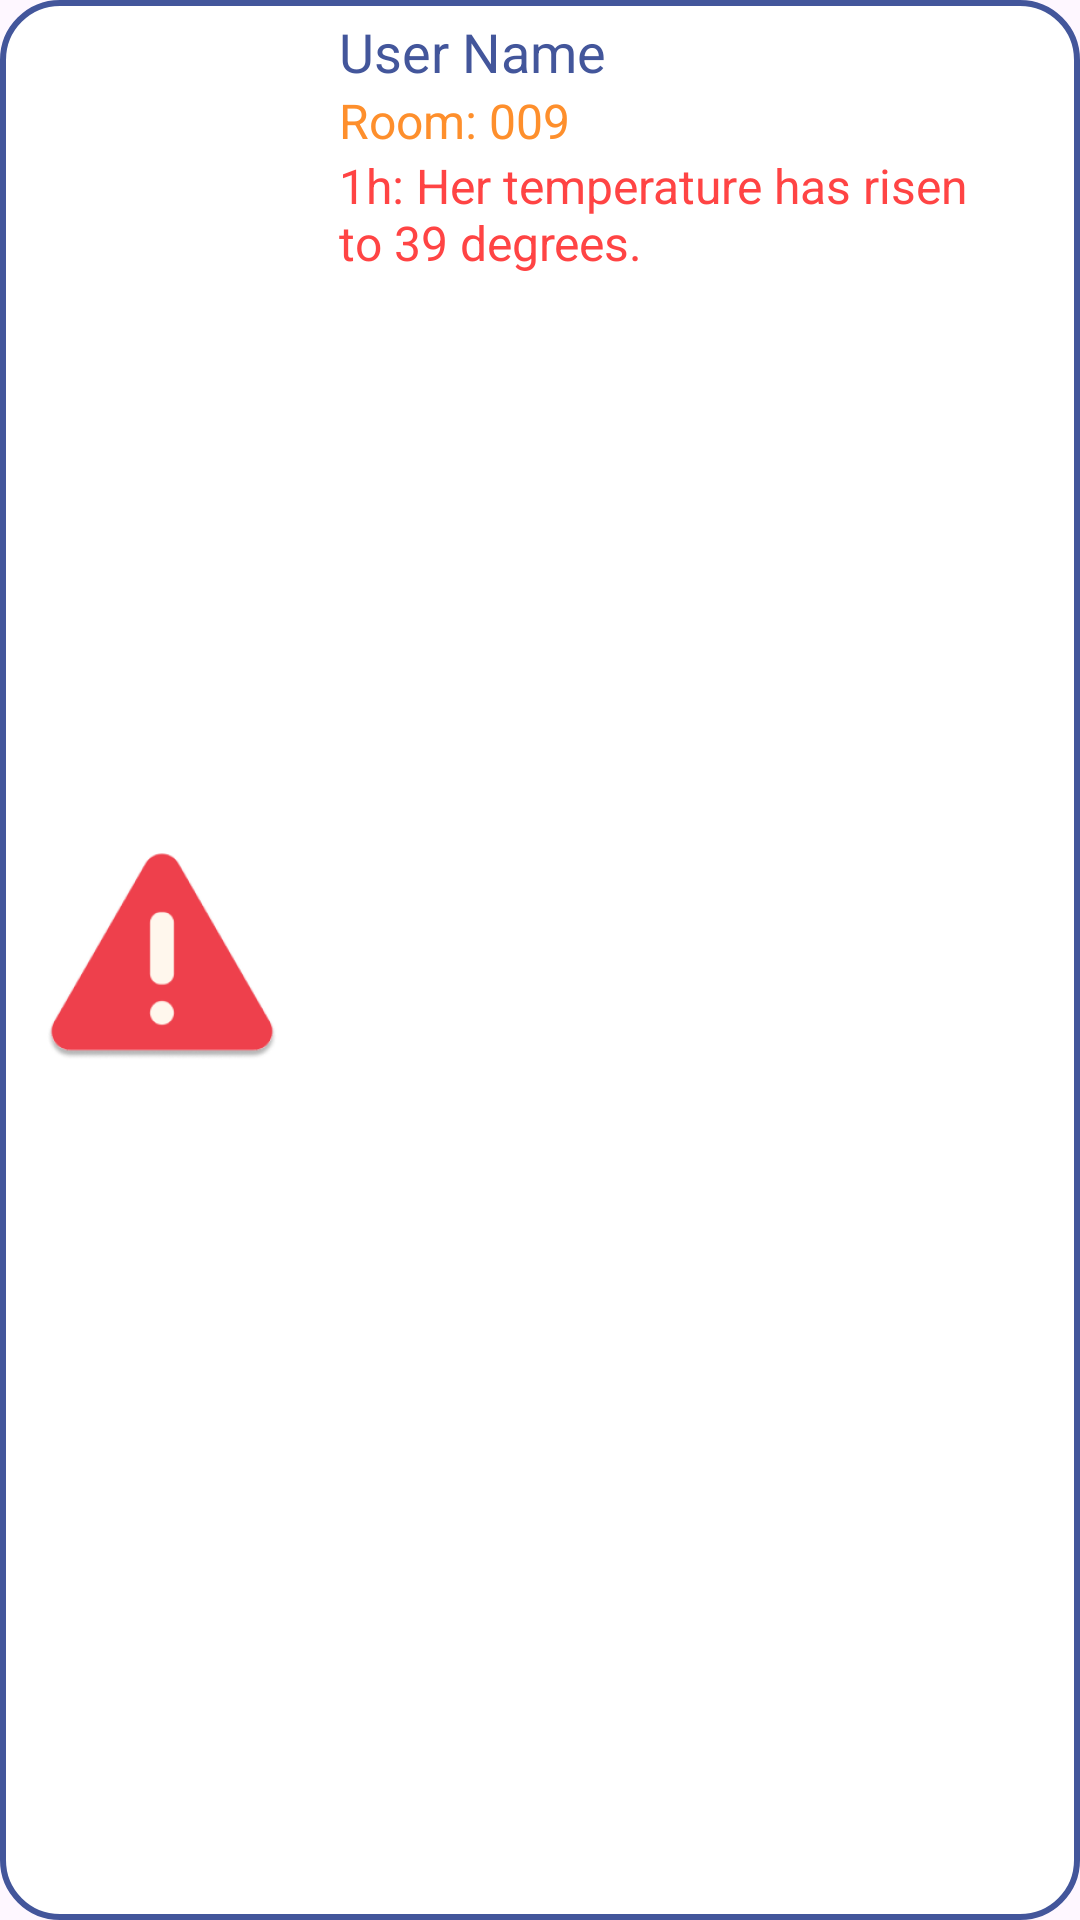

Locate icon controls on the screen. Image size 1080px×1920px, boxes as (left=x1, top=y1, right=x2, bottom=y2).
alert: (left=50, top=853, right=274, bottom=1056)
